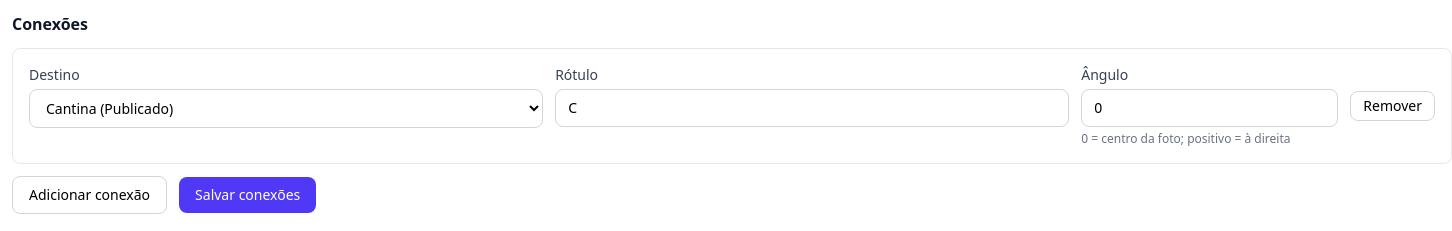
Test: ConnectionsEditor › remove uma conexao
What coordinates should you click on to do the following:
click the button "Remover"
I would click on:
 (1393, 106)
Its box is [1350,91,1435,121].
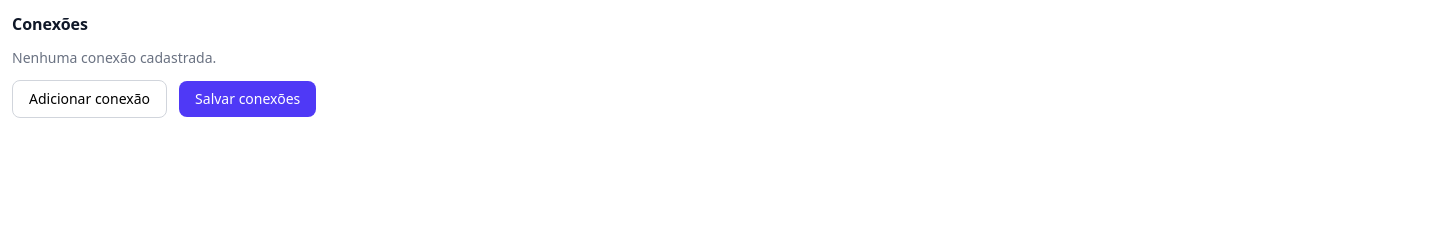
Expected: the text "Nenhuma conexão cadastrada." is shown, [12,48,216,67]
